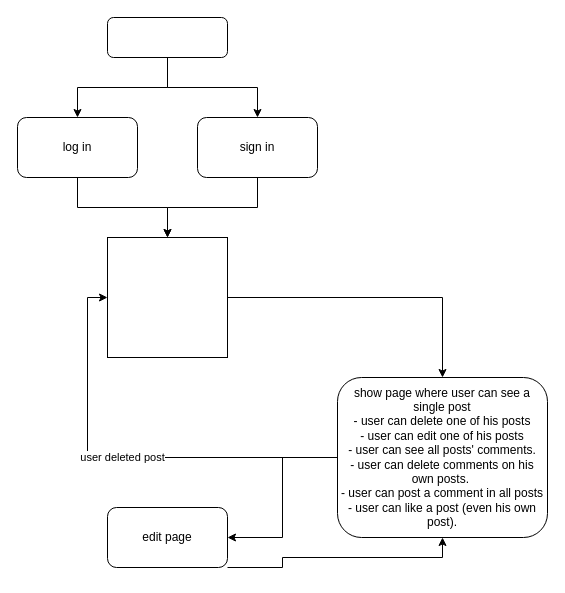
Some shapes in this 565 by 593 pixel diagram are drawn without their labels. The box of each missing label's shape, as (x1, y1, x2, y2) in pixels:
Index page - List all the posts and search bar or user's own posts: (106, 236, 228, 358)
Welcome page: (106, 16, 228, 58)
